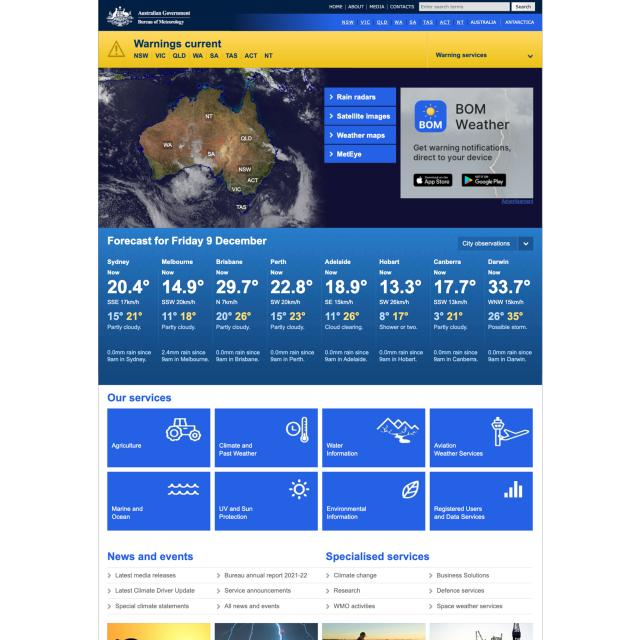input: (418, 1, 511, 12)
logo: (106, 5, 192, 28)
navigation: (108, 408, 533, 531), (104, 567, 532, 614), (340, 18, 536, 26), (133, 51, 274, 60), (328, 3, 414, 11)
